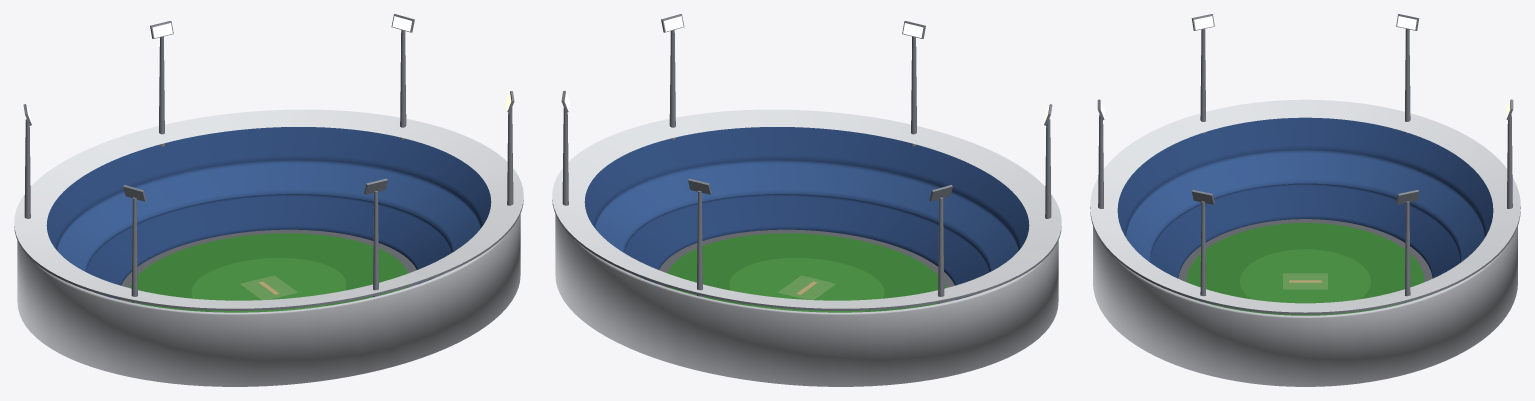
Rendered from mcg.glb.
3 views of the same model, side by side, from view 1: azimuth 30°, elevation 25°; view 2: azimuth 150°, elevation 25°; view 3: azimuth 270°, elevation 25° (orthographic). The views are drawn at different scales.
Parts seen in each view (by area): view 1: OuterFacade, RoofRing, MiddleTier, UpperTier, LowerTier, Field, InnerField, Apron, RoofFascia, LightTower5, LightTower6, LightTower3 (+4 smaller); view 2: OuterFacade, RoofRing, MiddleTier, UpperTier, LowerTier, Field, InnerField, Apron, RoofFascia, LightTower2, LightTower1, LightTower4 (+4 smaller); view 3: OuterFacade, RoofRing, MiddleTier, UpperTier, LowerTier, Field, InnerField, Apron, RoofFascia, LightTower3, LightTower4, LightTower1 (+4 smaller).
Boxes of the visible parts, x1,y1,x2,y2 form: OuterFacade: (17, 214, 520, 386); RoofRing: (14, 109, 523, 308); MiddleTier: (57, 159, 480, 271); UpperTier: (46, 127, 491, 276); LowerTier: (86, 194, 451, 299); Field: (129, 233, 408, 311); InnerField: (191, 258, 346, 312); Apron: (119, 229, 417, 301); RoofFascia: (14, 200, 523, 310); LightTower5: (150, 21, 173, 146); LightTower6: (391, 14, 414, 139); LightTower3: (123, 185, 146, 303); OuterFacade: (555, 214, 1058, 386); RoofRing: (552, 109, 1061, 308); MiddleTier: (595, 159, 1018, 271); UpperTier: (584, 127, 1029, 276); LowerTier: (624, 194, 989, 299); Field: (667, 233, 946, 311); InnerField: (729, 258, 884, 312); Apron: (658, 229, 956, 301); RoofFascia: (552, 200, 1061, 310); LightTower2: (902, 21, 925, 146); LightTower1: (661, 14, 684, 139); LightTower4: (929, 185, 952, 303); OuterFacade: (1093, 226, 1517, 386); RoofRing: (1090, 99, 1520, 312); MiddleTier: (1126, 149, 1484, 262); UpperTier: (1117, 117, 1493, 236); LowerTier: (1150, 183, 1460, 278); Field: (1186, 223, 1424, 315); InnerField: (1240, 249, 1370, 312); Apron: (1178, 219, 1432, 298); RoofFascia: (1090, 207, 1520, 314); LightTower3: (1191, 14, 1214, 133); LightTower4: (1396, 14, 1419, 133); LightTower1: (1191, 190, 1214, 302).
Size of what is drawn, in the model's own units: 313 by 122 by 268.
